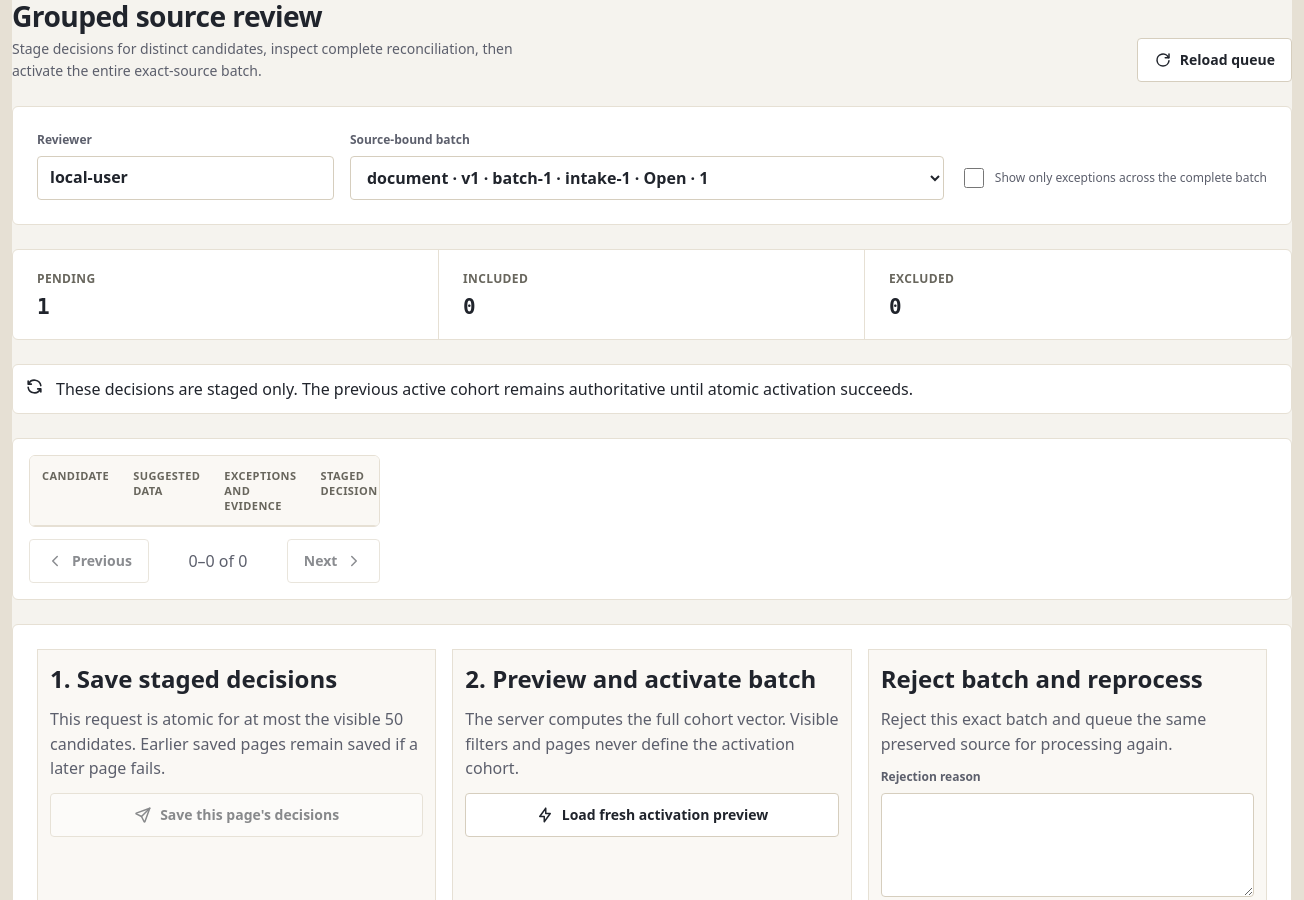
Test case: GroupedReviewWorkspace › keeps candidates, exact source, and destructive confirmation bound to the selected batch
Type "retry this source" into the text box labelled "Rejection reason" at (1067, 845), box left=881, top=793, right=1254, bottom=897
(page scrolled)
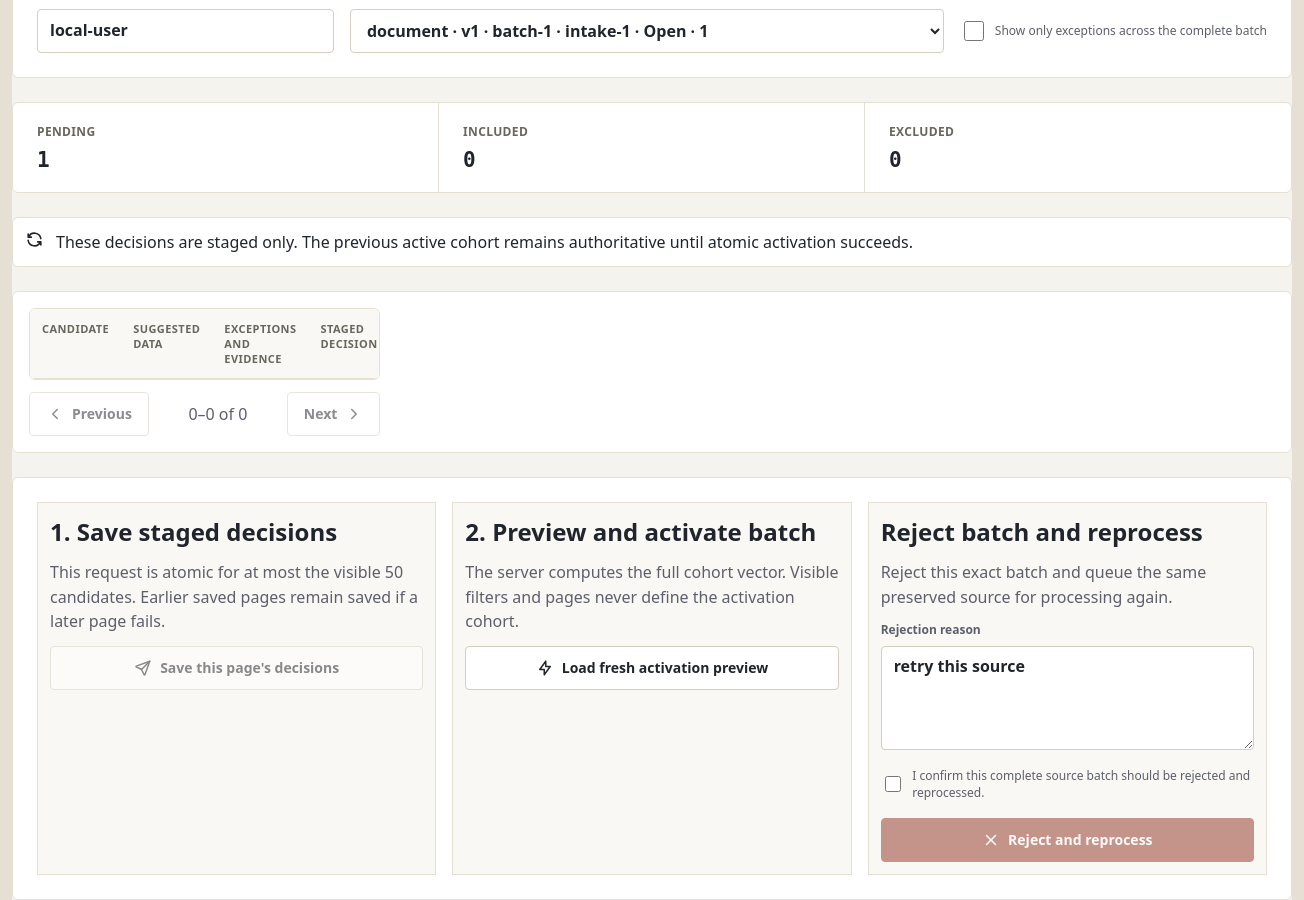
Click the checkbox labelled "I confirm this complete source batch should be rejected and reprocessed." at (893, 784), box left=885, top=774, right=901, bottom=794
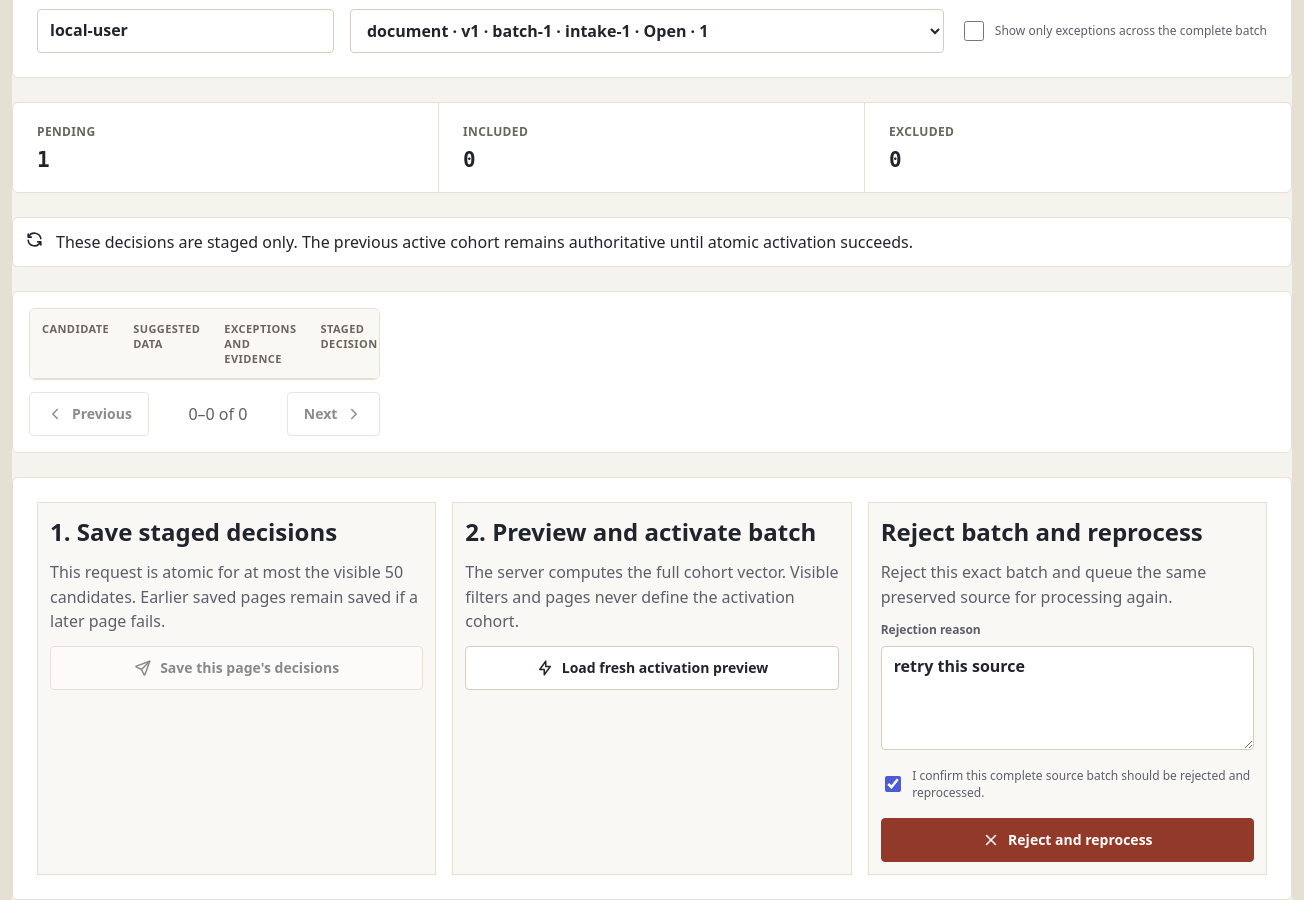
Select "document · v1 · batch-2 · intake-2 · Open · 1" in the dropdown labelled "Source-bound batch" at (647, 31), box left=350, top=9, right=944, bottom=53
(page scrolled)
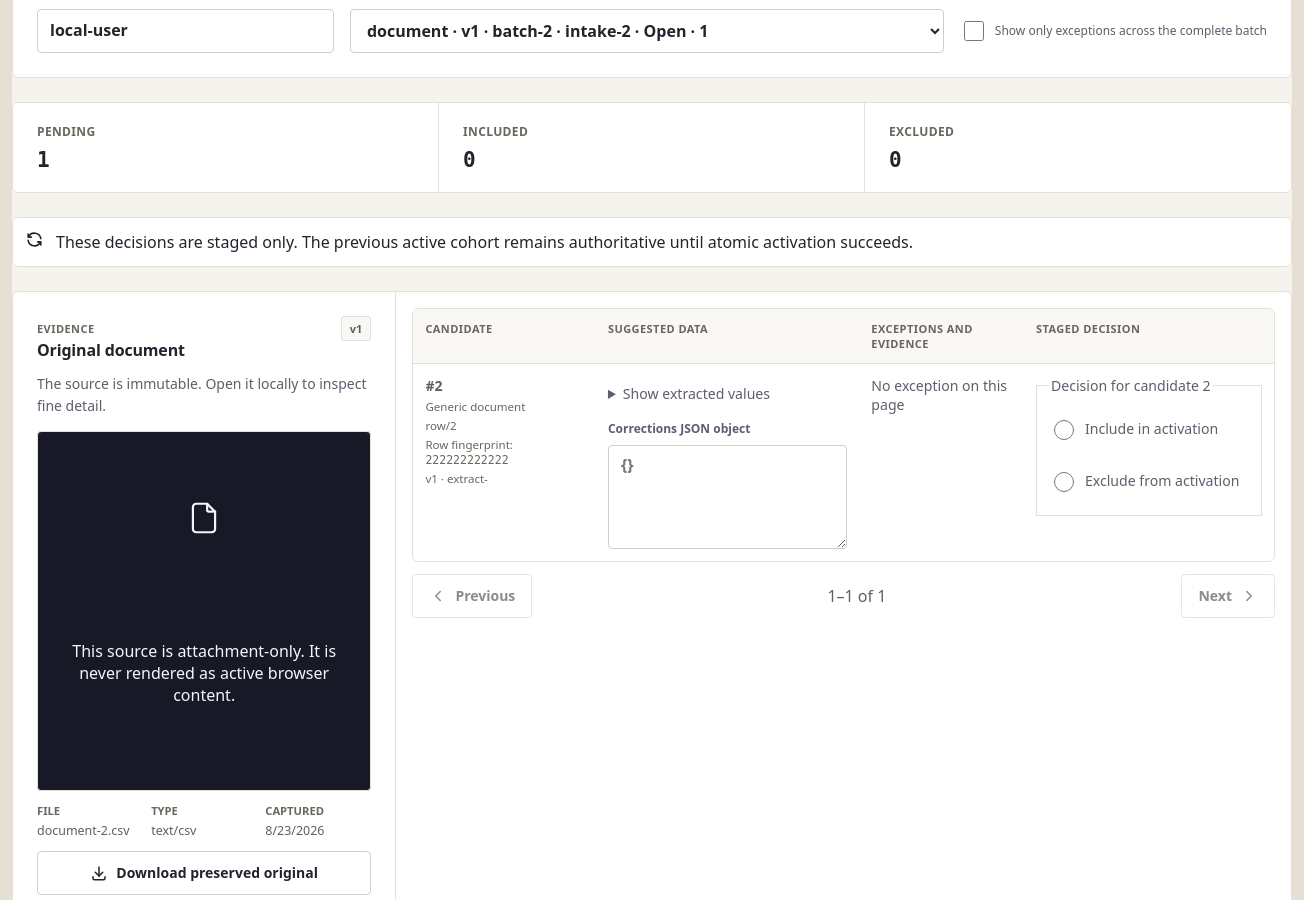
Check: the text "document-2.csv" is shown, box left=37, top=822, right=143, bottom=839
Check: the text "row/2" is shown, box left=425, top=418, right=457, bottom=433
